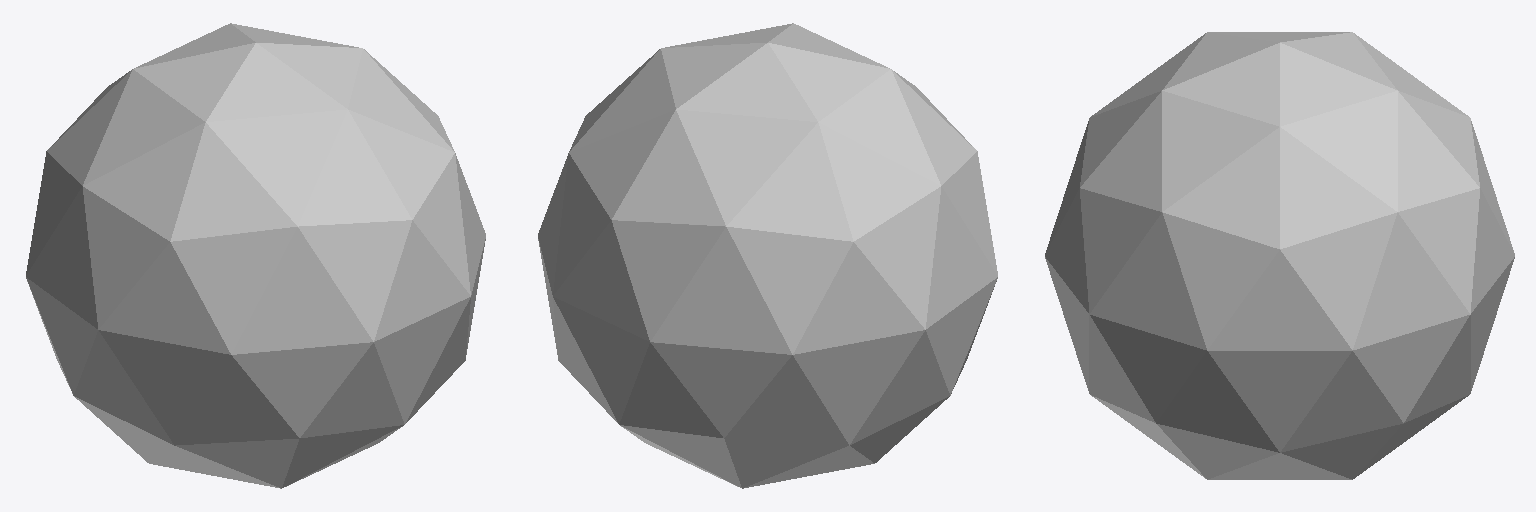
The model's file is ball.obj.
3 views of the same model, side by side, from view 1: azimuth 30°, elevation 25°; view 2: azimuth 150°, elevation 25°; view 3: azimuth 270°, elevation 25° (orthographic).
Parts seen in each view (by area): view 1: Icosphere; view 2: Icosphere; view 3: Icosphere.
Boxes of the visible parts, x1=… form: Icosphere: x1=26, y1=23, x2=485, y2=488; Icosphere: x1=538, y1=23, x2=997, y2=488; Icosphere: x1=1045, y1=32, x2=1514, y2=479.
Size of the model in its own units: 0.1057 by 0.1111 by 0.1111.